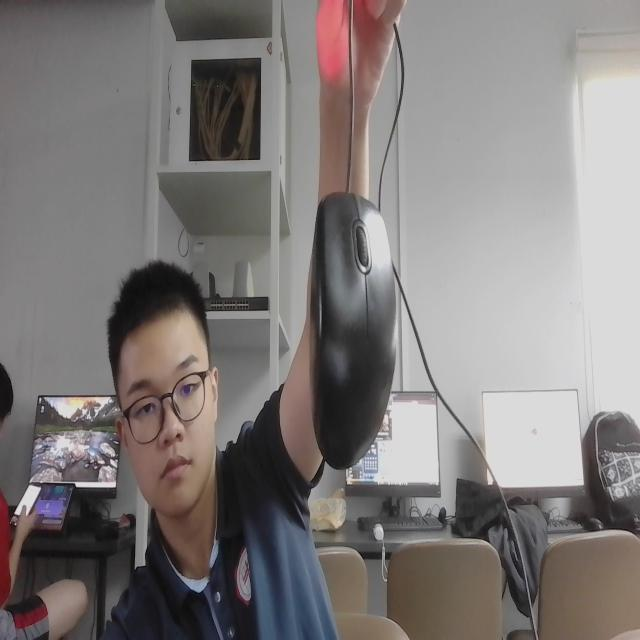mouse: (300, 179, 403, 482)
